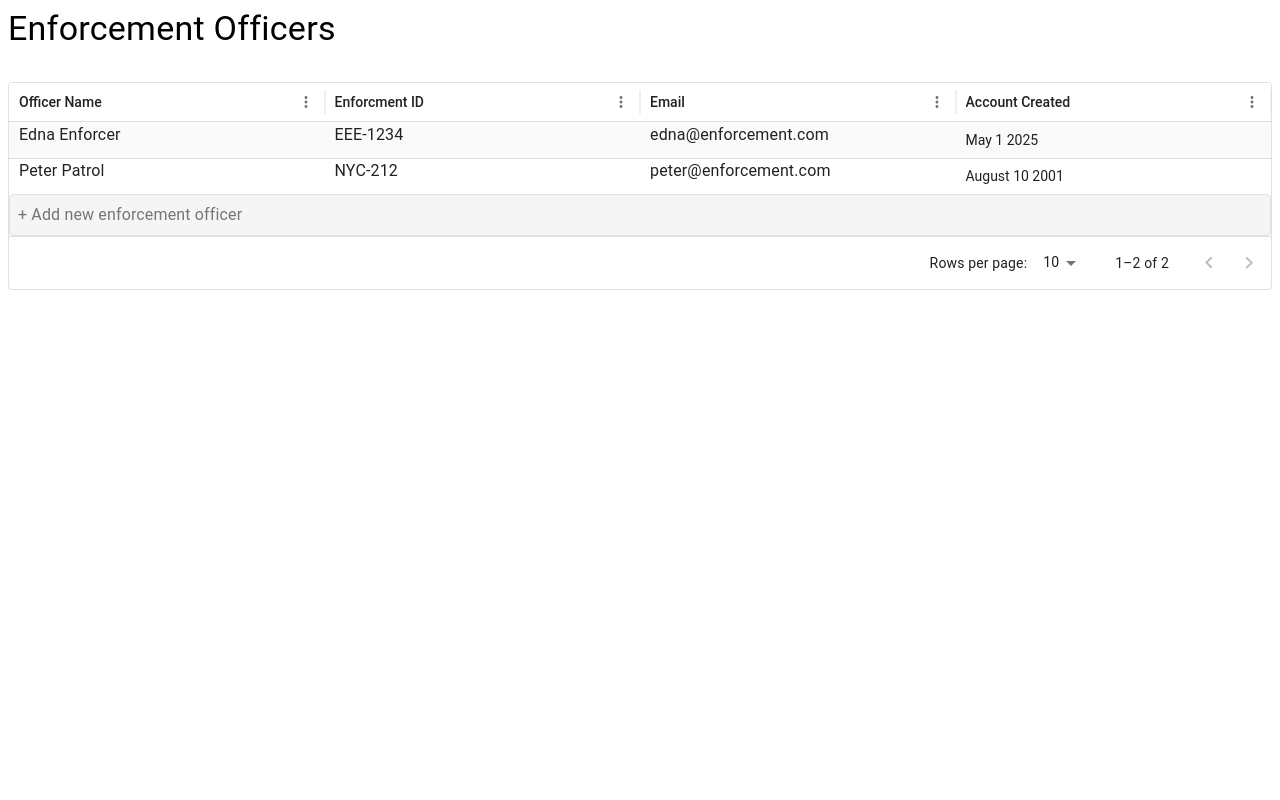
Test: Closes the creation modal when clicking away from it
Expected: the text "Edna Enforcer" is shown, [19,125,121,144]
Click the text "+ Add new enforcement officer": point(130, 214) [18,205,242,224]
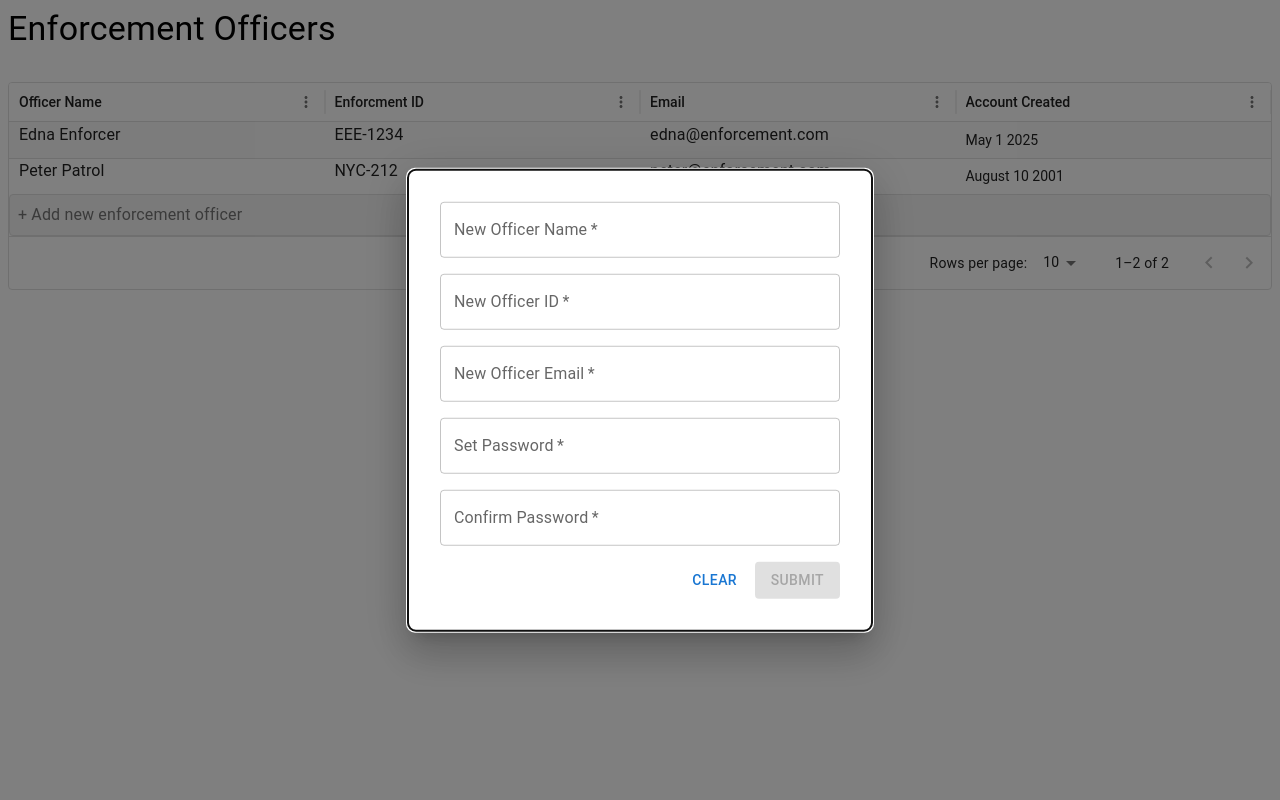
Expected: the button "Submit" is shown, [755,562,840,598]
Press Escape
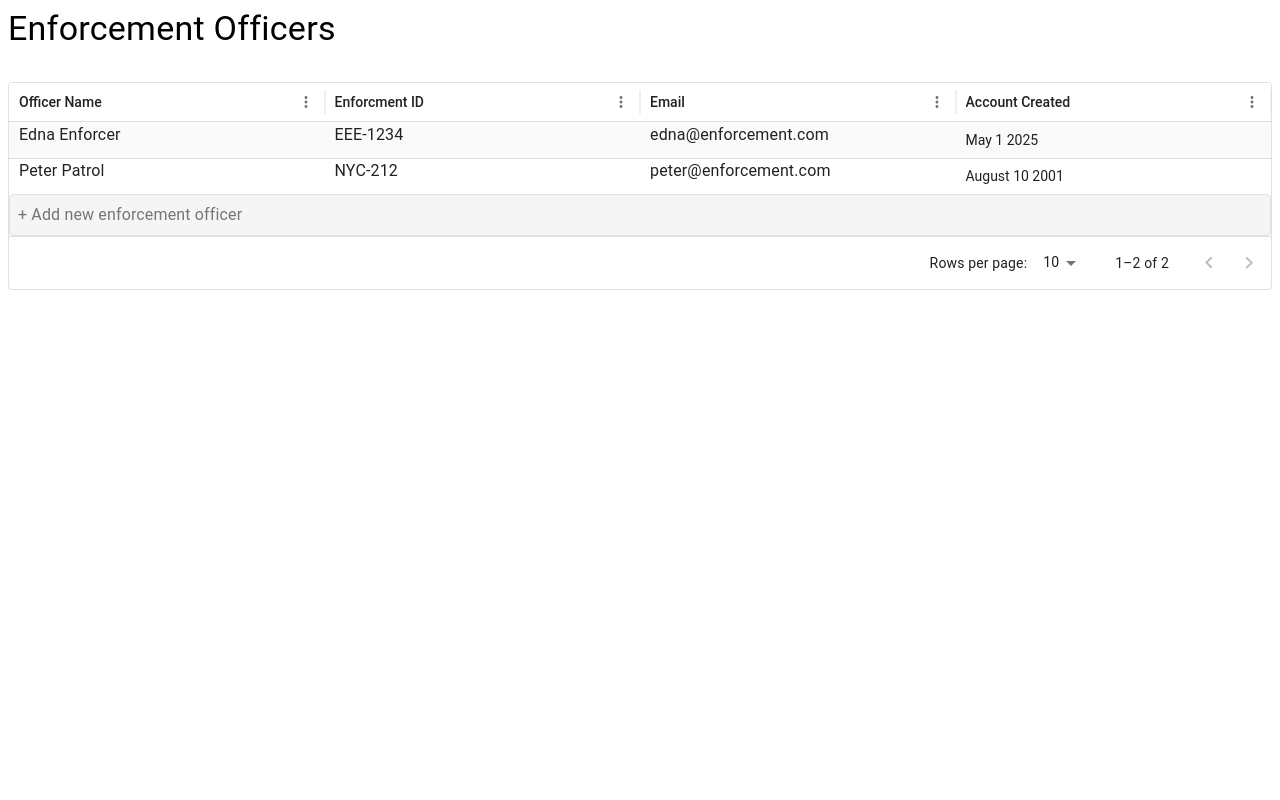
Expected: the button "Submit" is gone
